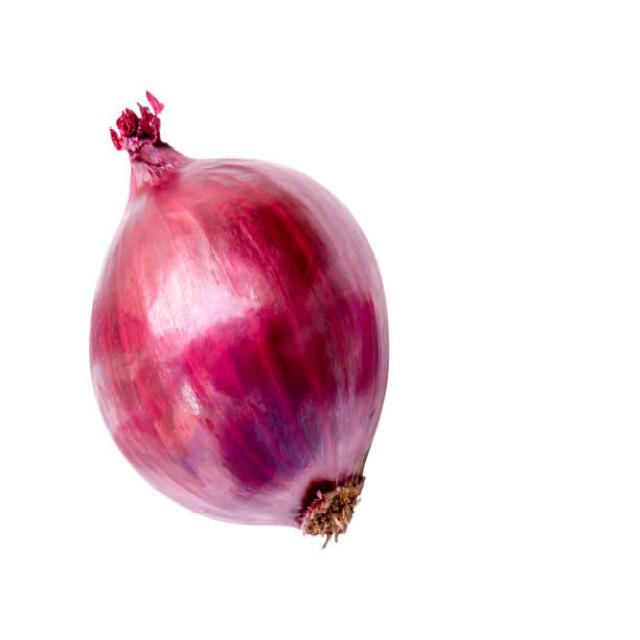onion: (85, 145, 391, 550)
